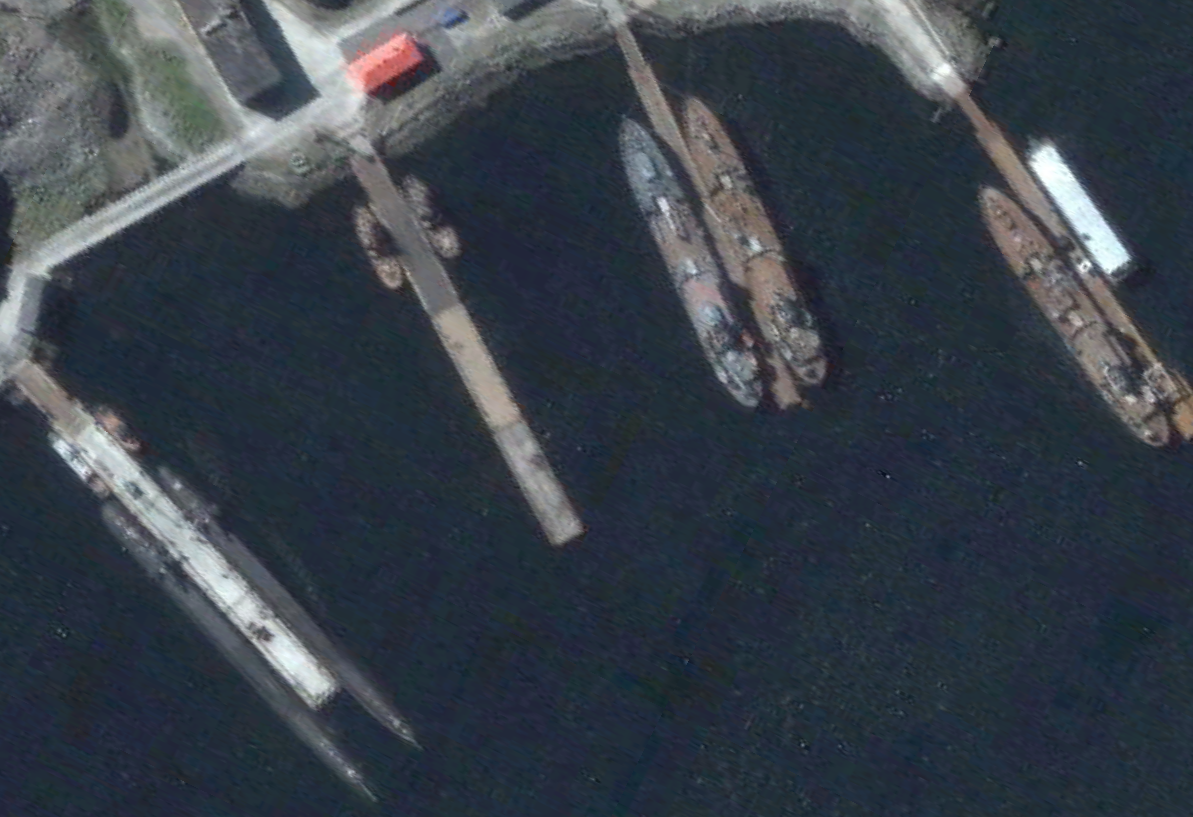merchant ship: (976, 182, 1171, 448), (677, 92, 829, 385), (615, 112, 763, 407), (397, 170, 461, 259), (350, 199, 403, 290), (42, 429, 107, 497), (90, 399, 139, 451)
submarine: (99, 499, 385, 807), (156, 457, 425, 753)
